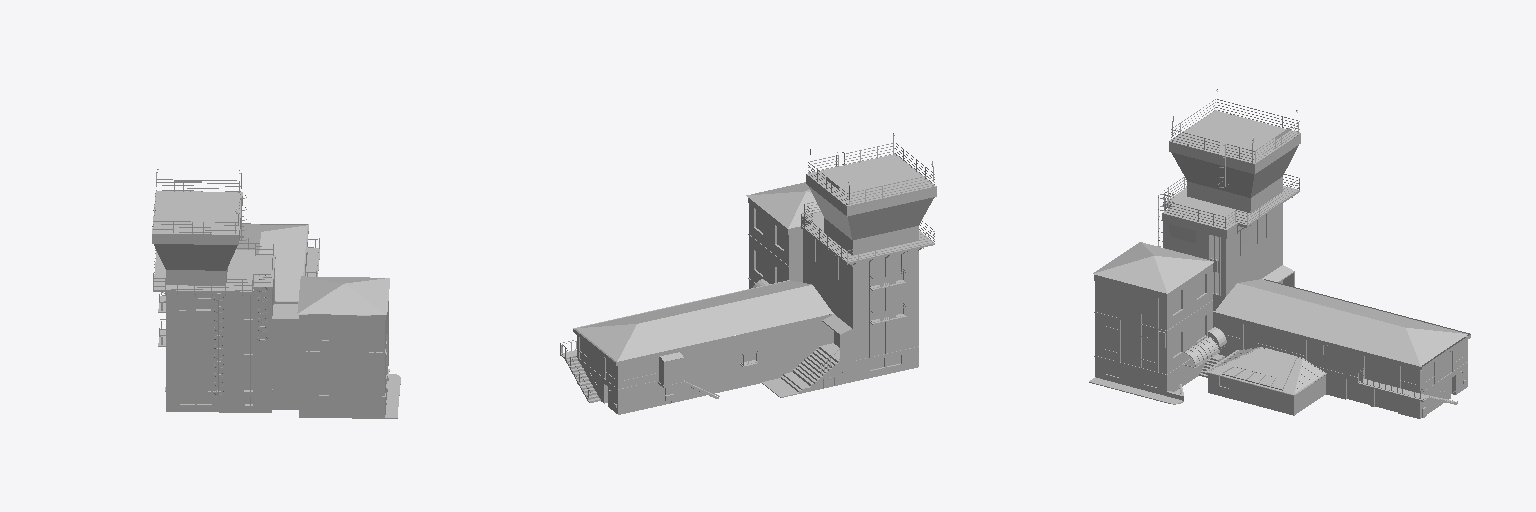
The model's file is Tower.obj.
3 renders of one model, left to right at view 1: azimuth 30°, elevation 25°; view 2: azimuth 150°, elevation 25°; view 3: azimuth 270°, elevation 25°, orthographic.
Parts seen in each view (by area): view 1: Layer0_001; view 2: Layer0_001; view 3: Layer0_001.
Boxes of the visible parts, <box> form: Layer0_001: <box>152,169,400,418</box>; Layer0_001: <box>560,133,936,414</box>; Layer0_001: <box>1089,89,1470,418</box>.
Size of the model in its own units: 30831 by 22550 by 37509.